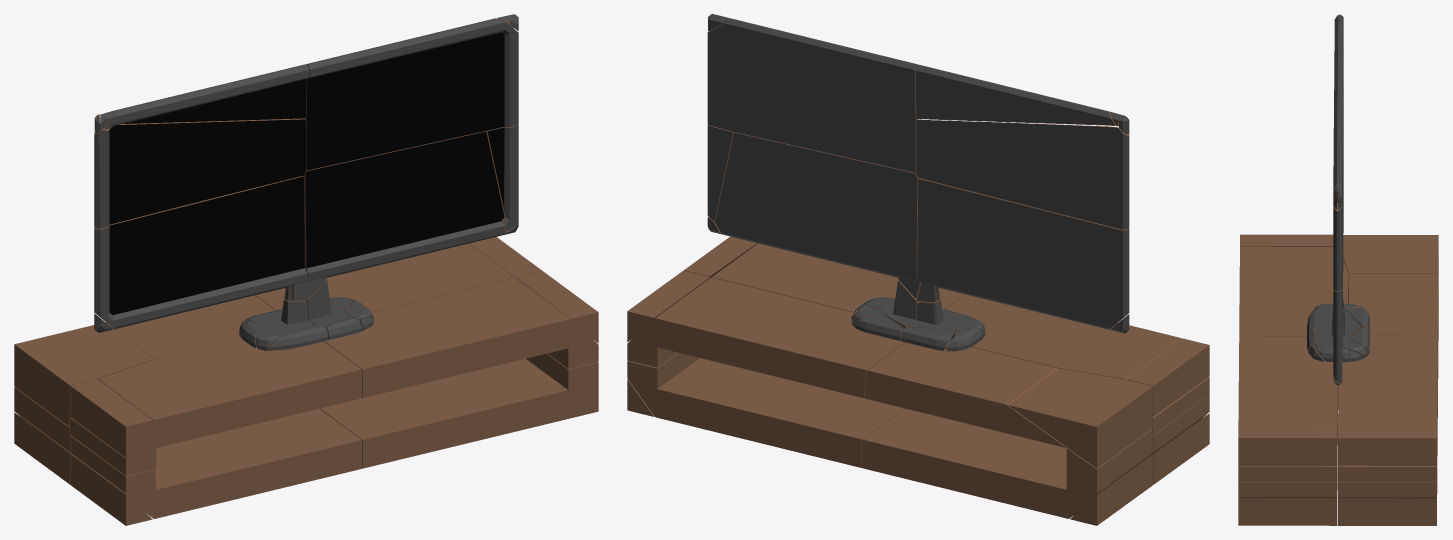
The model's file is Tele_Roto.fbx.
3 views of the same model, side by side, from view 1: azimuth 30°, elevation 25°; view 2: azimuth 150°, elevation 25°; view 3: azimuth 270°, elevation 25° (orthographic). The views are drawn at different scales.
Parts seen in each view (by area): view 1: Tele_cell.014, Tele_cell.009, Tele_cell.006, Tele.001_cell.012, Tele.001_cell.001, Tele_cell.004, Tele.001_cell, Tele.001_cell.007, Tele.001_cell.014, Tele.001_cell.004, Tele_cell.002, Tele.001_cell.008 (+9 smaller); view 2: Tele.001_cell.008, Tele_cell.014, Tele_cell.009, Tele_cell.006, Tele.001_cell.014, Tele_cell.004, Tele.001_cell.006, Tele.001_cell.012, Tele.001_cell.004, Tele.001_cell.001, Tele_cell.002, Tele.001_cell.009 (+10 smaller); view 3: Tele.001_cell.014, Tele.001_cell.001, Tele.001_cell.012, Tele.001_cell.008, Tele.001_cell.011, Tele.001_cell.013, Tele.001_cell.004, Tele.001_cell.005, Tele.001_cell.002, Tele.001_cell.006, Tele.001_cell, Tele_cell.014 (+8 smaller).
Boxes of the visible parts, box(x1,y1,x2,y2) form: Tele_cell.014: box(305, 18, 518, 170); Tele_cell.009: box(94, 176, 307, 328); Tele_cell.006: box(303, 131, 506, 280); Tele.001_cell.012: box(69, 338, 361, 475); Tele.001_cell.001: box(324, 278, 598, 397); Tele_cell.004: box(94, 118, 305, 228); Tele.001_cell: box(320, 353, 598, 468); Tele.001_cell.007: box(70, 408, 361, 518); Tele.001_cell.014: box(255, 243, 514, 312); Tele.001_cell.004: box(14, 325, 153, 426); Tele_cell.002: box(104, 64, 309, 129); Tele.001_cell.008: box(14, 295, 275, 458); Tele.001_cell.008: box(862, 341, 1153, 518); Tele_cell.014: box(707, 18, 917, 172); Tele_cell.009: box(917, 178, 1129, 329); Tele_cell.006: box(715, 132, 918, 280); Tele.001_cell.014: box(627, 277, 904, 398); Tele_cell.004: box(916, 119, 1129, 229); Tele.001_cell.006: box(627, 352, 904, 467); Tele.001_cell.012: box(945, 294, 1209, 434); Tele.001_cell.004: box(1008, 368, 1153, 468); Tele.001_cell.001: box(712, 243, 964, 312); Tele_cell.002: box(915, 64, 1117, 126); Tele.001_cell.009: box(1127, 338, 1209, 416); Tele.001_cell.014: box(1338, 334, 1437, 481); Tele.001_cell.001: box(1238, 336, 1337, 481); Tele.001_cell.012: box(1239, 246, 1348, 336); Tele.001_cell.008: box(1348, 273, 1438, 417); Tele.001_cell.011: box(1238, 426, 1337, 465); Tele.001_cell.013: box(1338, 426, 1436, 465); Tele.001_cell.004: box(1343, 235, 1438, 273); Tele.001_cell.005: box(1238, 497, 1337, 525); Tele.001_cell.002: box(1338, 498, 1436, 525); Tele.001_cell.006: box(1338, 399, 1437, 498); Tele.001_cell: box(1238, 400, 1337, 498); Tele_cell.014: box(1333, 104, 1342, 291).
Size of the model in its own units: 124 by 91.29 by 51.7.
